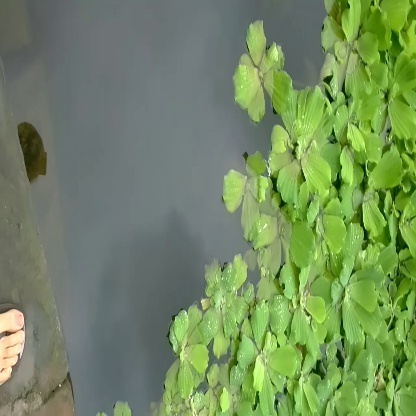leaf: (228, 20, 287, 122)
